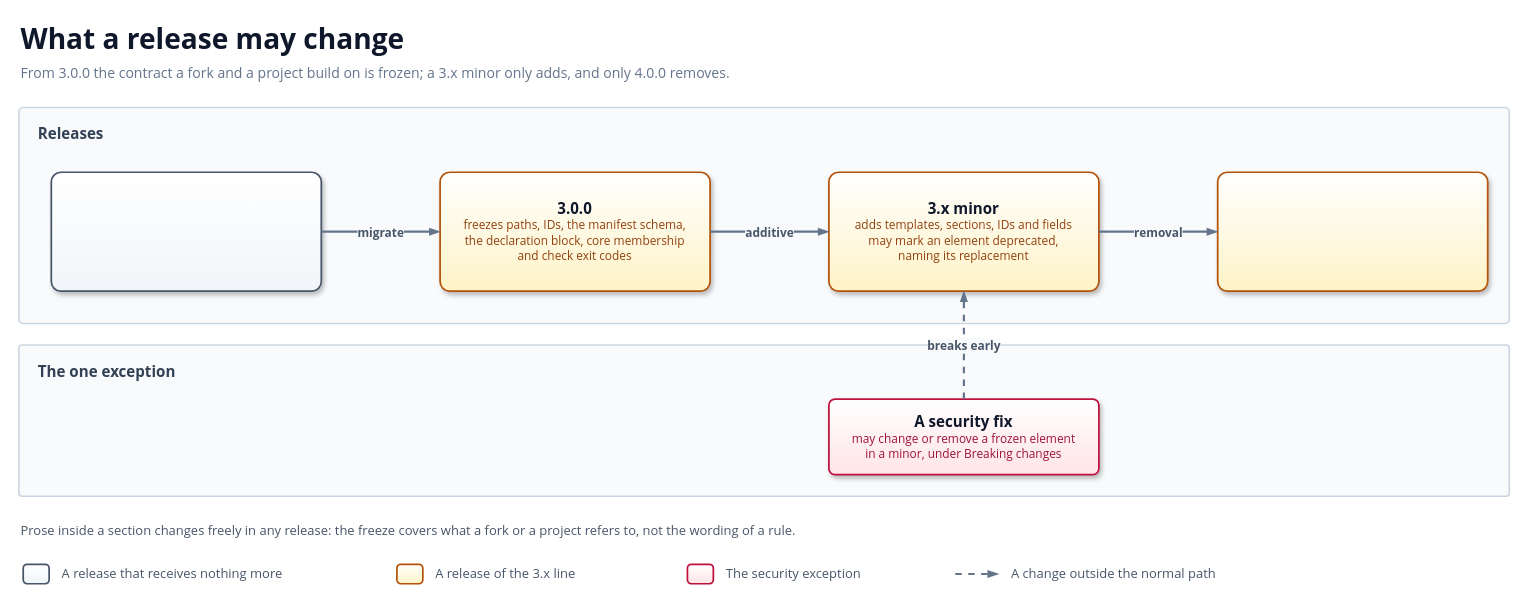
Image size: 1529x605. Some labels were removed from this diagram. Each missing label, with the centre of its shape:
"2.90.0 the final 2.x, with no further fixes a project's pin until it migrates" belongs at (187,233).
"4.0.0 removes what 3.x deprecated the next major freezes again" belongs at (1353,233).
